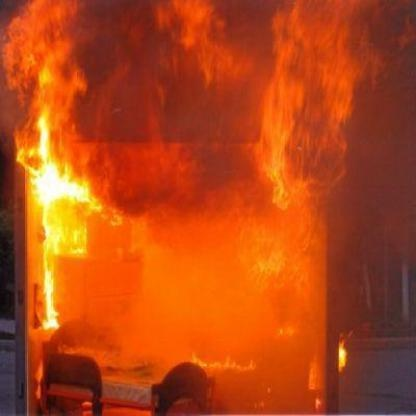fire: (0, 1, 402, 318)
